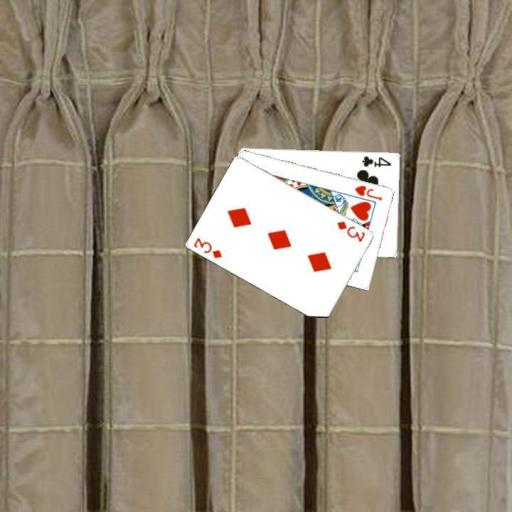3D: (333, 218, 367, 244), (191, 234, 224, 260)
4C: (359, 153, 393, 168)
JH: (352, 182, 383, 202)
